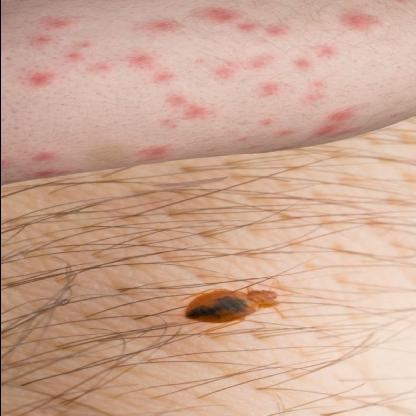Bed Bug: (196, 4, 290, 38), (151, 94, 219, 128), (305, 106, 369, 140), (127, 48, 180, 88), (334, 3, 380, 35), (195, 55, 243, 83), (128, 18, 184, 38), (20, 64, 58, 89), (124, 144, 176, 162), (249, 76, 283, 102), (301, 78, 334, 102), (66, 39, 96, 62), (252, 47, 277, 73), (44, 14, 80, 32), (233, 131, 264, 151), (313, 40, 337, 62), (288, 53, 312, 73), (34, 166, 70, 178), (82, 64, 115, 76), (30, 150, 59, 162), (32, 34, 56, 46), (275, 128, 300, 139), (256, 115, 274, 127), (389, 0, 415, 8), (1, 154, 11, 172)
